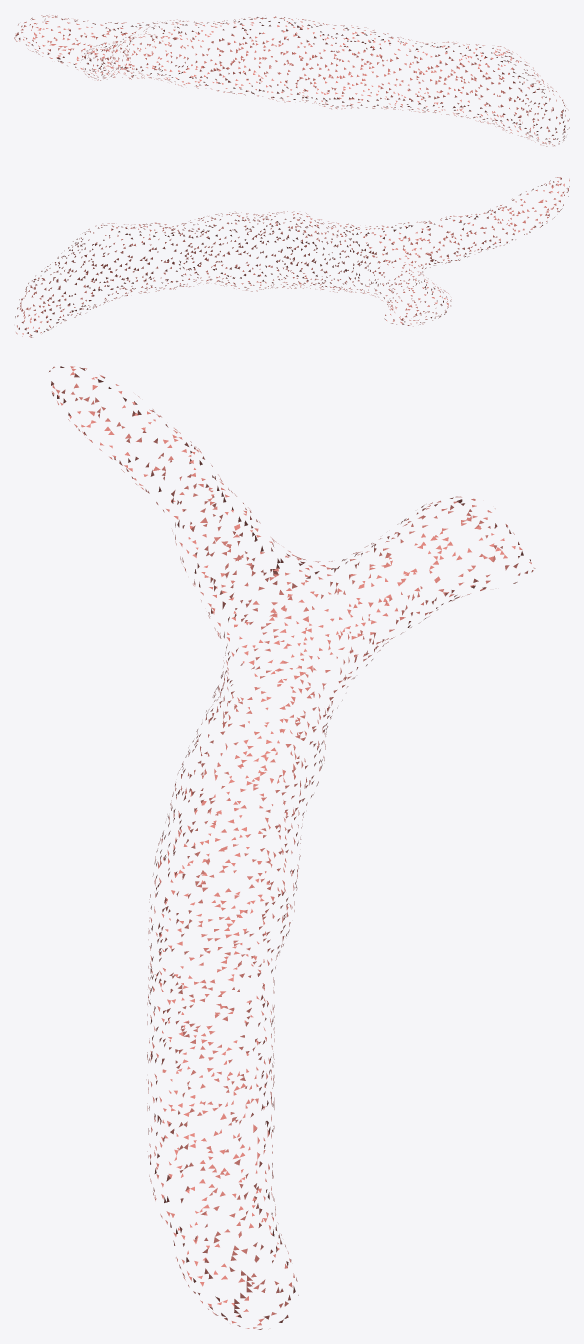
Rendered from morph_001.glb.
3 views of the same model, one above another, from view 1: azimuth 30°, elevation 25°; view 2: azimuth 150°, elevation 25°; view 3: azimuth 270°, elevation 25° (orthographic). The views are drawn at different scales.
Bounding box in the file's own units: 135 × 62.12 × 56.12.
